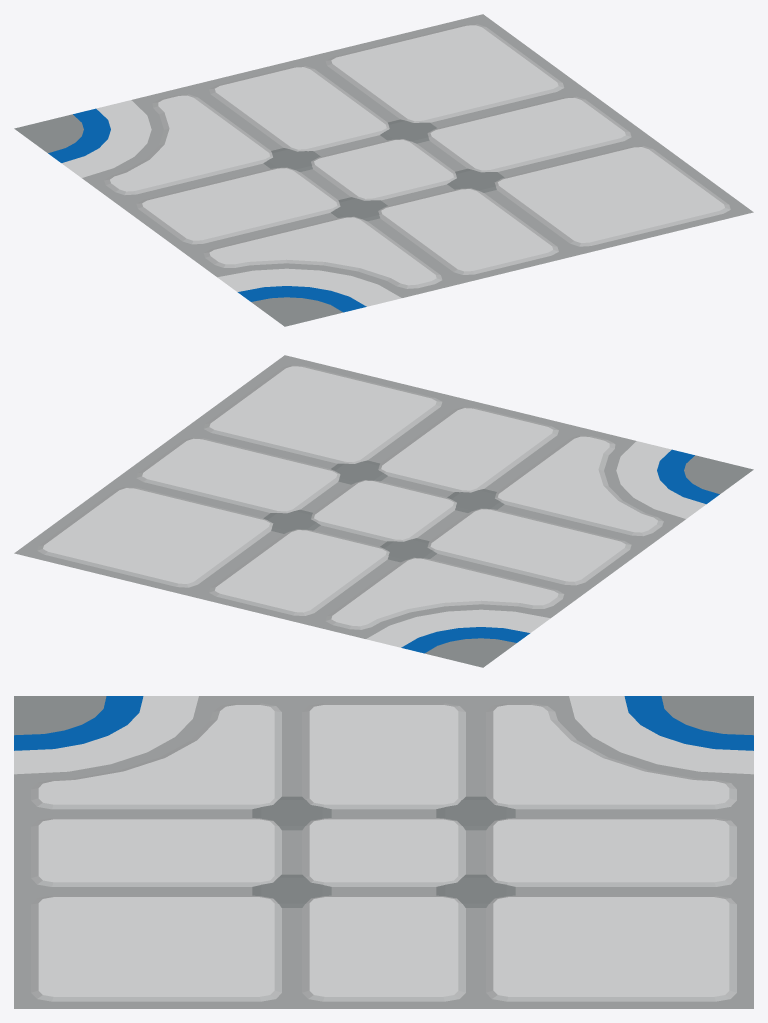
The model's file is Floor_type_A_015.fbx.
The picture shows the model from 3 angles, top to bottom: view 1: azimuth 30°, elevation 25°; view 2: azimuth 150°, elevation 25°; view 3: azimuth 270°, elevation 25°; orthographic projection. The views are drawn at different scales.
Parts seen in each view (by area): view 1: Floor_type_A_015; view 2: Floor_type_A_015; view 3: Floor_type_A_015.
Part boxes in pixels (x1,y1,x2,y2): Floor_type_A_015: (14,14,753,326); Floor_type_A_015: (14,355,753,667); Floor_type_A_015: (14,696,753,1008).
Bounding box in the file's own units: 400 × 400 × 1.34.
